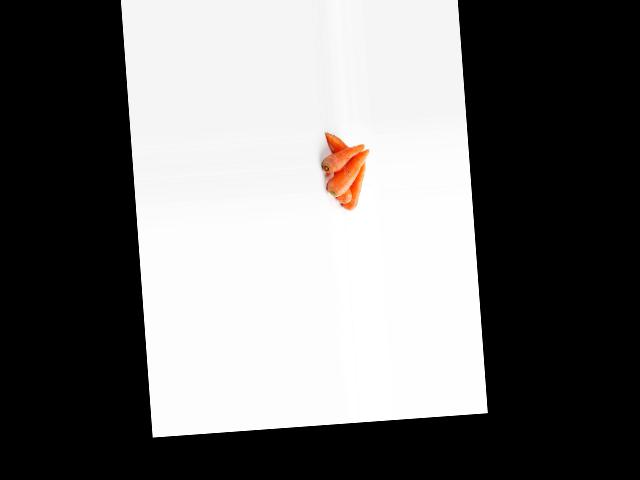carrot: (319, 142, 365, 174)
